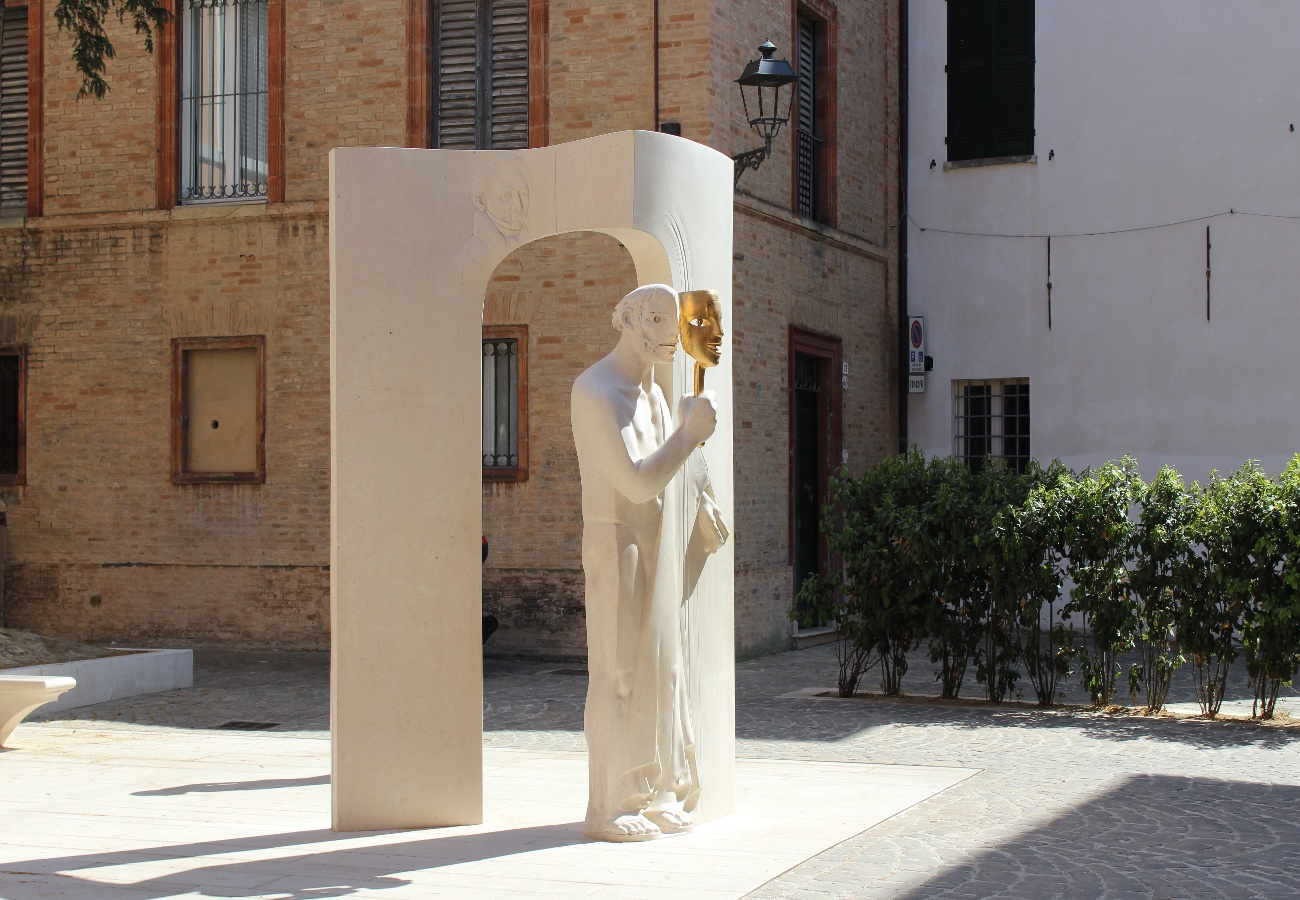Scultura della Memoria: (568, 286, 738, 849)
